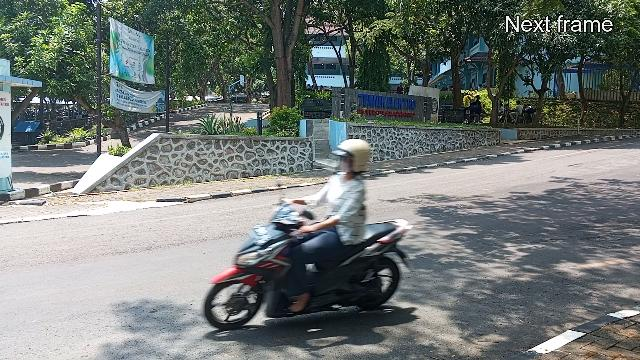helm: (331, 140, 374, 179)
motor: (202, 177, 420, 332)
